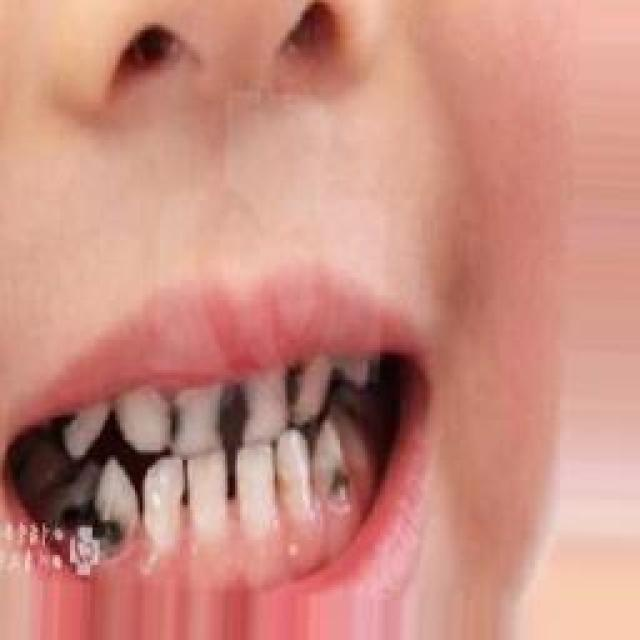decay: (215, 393, 247, 443), (333, 470, 358, 505), (68, 505, 103, 523), (288, 373, 300, 405), (338, 385, 353, 405)
